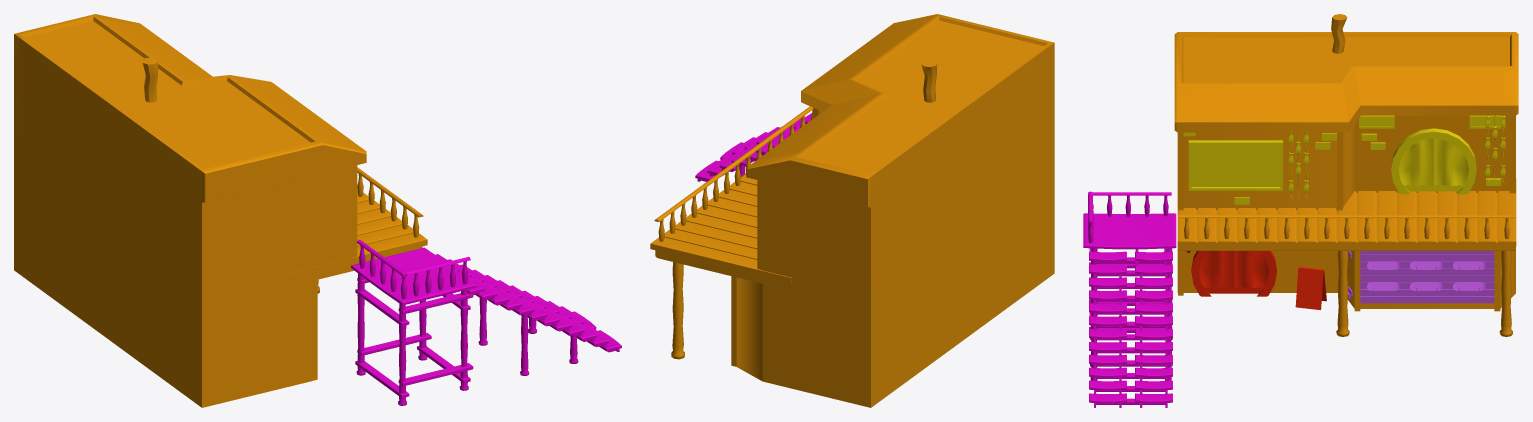
File: SegmentA1v2.fbx
3 renders of one model, left to right at view 1: azimuth 30°, elevation 25°; view 2: azimuth 150°, elevation 25°; view 3: azimuth 270°, elevation 25°, orthographic. The views are drawn at different scales.
Parts seen in each view (by area): view 1: MasterBuilding_A, StairCase1; view 2: MasterBuilding_A, StairCase1; view 3: MasterBuilding_A, StairCase1, FishingShop, SkateShop2, SkateShop1.
Boxes of the visible parts, x1,y1,x2,y2 form: MasterBuilding_A: [14, 14, 427, 407]; StairCase1: [351, 240, 621, 405]; MasterBuilding_A: [650, 14, 1054, 407]; StairCase1: [695, 113, 811, 181]; MasterBuilding_A: [1174, 14, 1518, 336]; StairCase1: [1083, 191, 1176, 407]; FishingShop: [1183, 115, 1505, 204]; SkateShop2: [1348, 251, 1494, 303]; SkateShop1: [1186, 251, 1326, 309].
Bounding box in the file's own units: 53.89 × 37.67 × 60.71.
